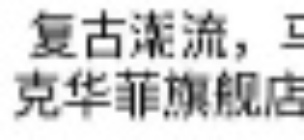TextView: (1, 1, 303, 139)
